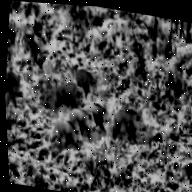boar: (108, 98, 154, 141), (56, 112, 92, 152), (3, 62, 29, 114), (71, 60, 105, 98), (54, 71, 85, 106), (70, 103, 99, 134), (86, 97, 112, 125)
